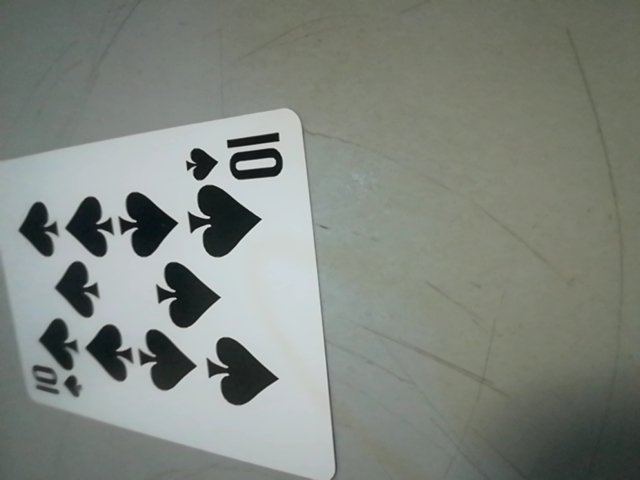ht 10: (185, 122, 283, 185)
